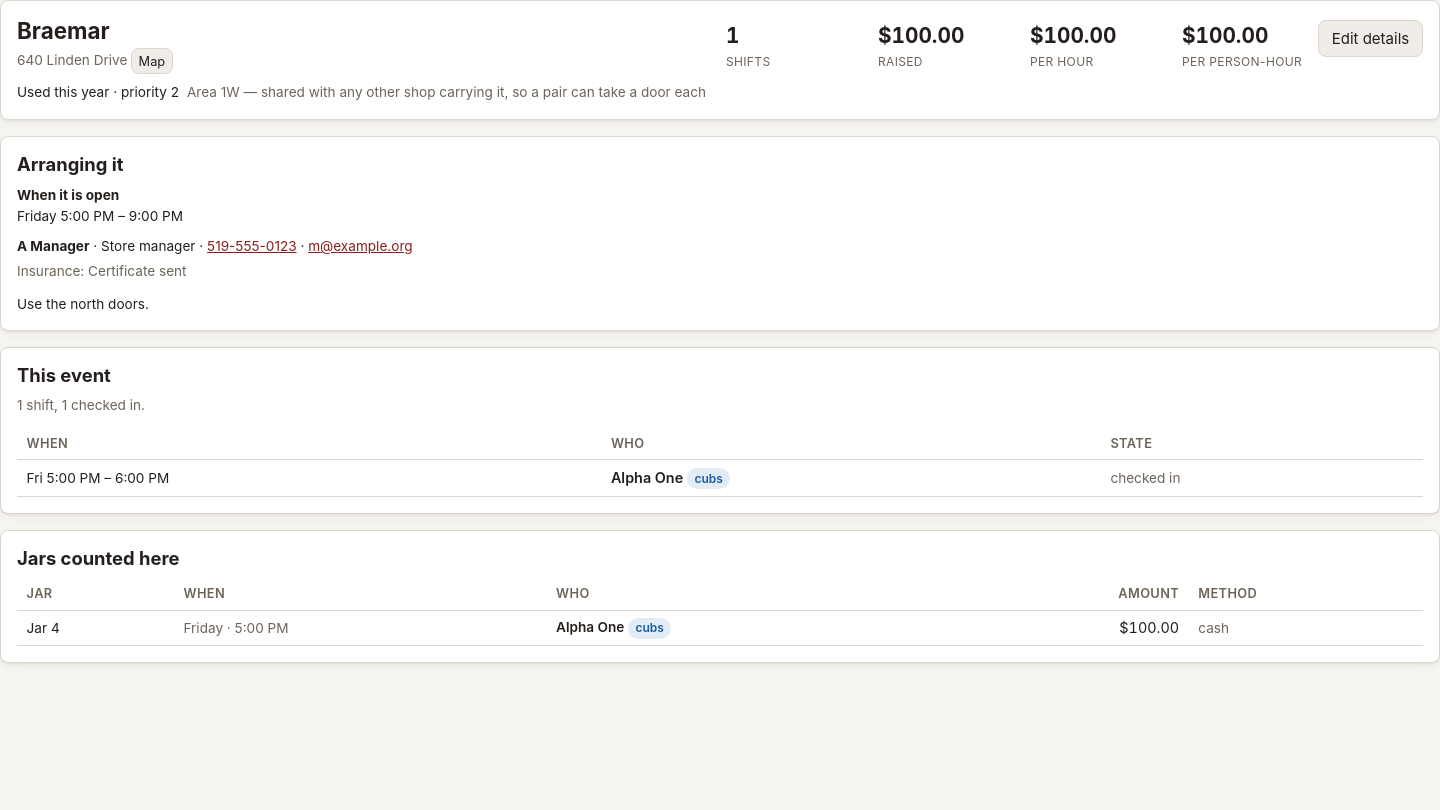
correcting a location from its own page › will not save a location with no name
Click the button "Edit details" at (1370, 39), box [1318,20,1423,58]
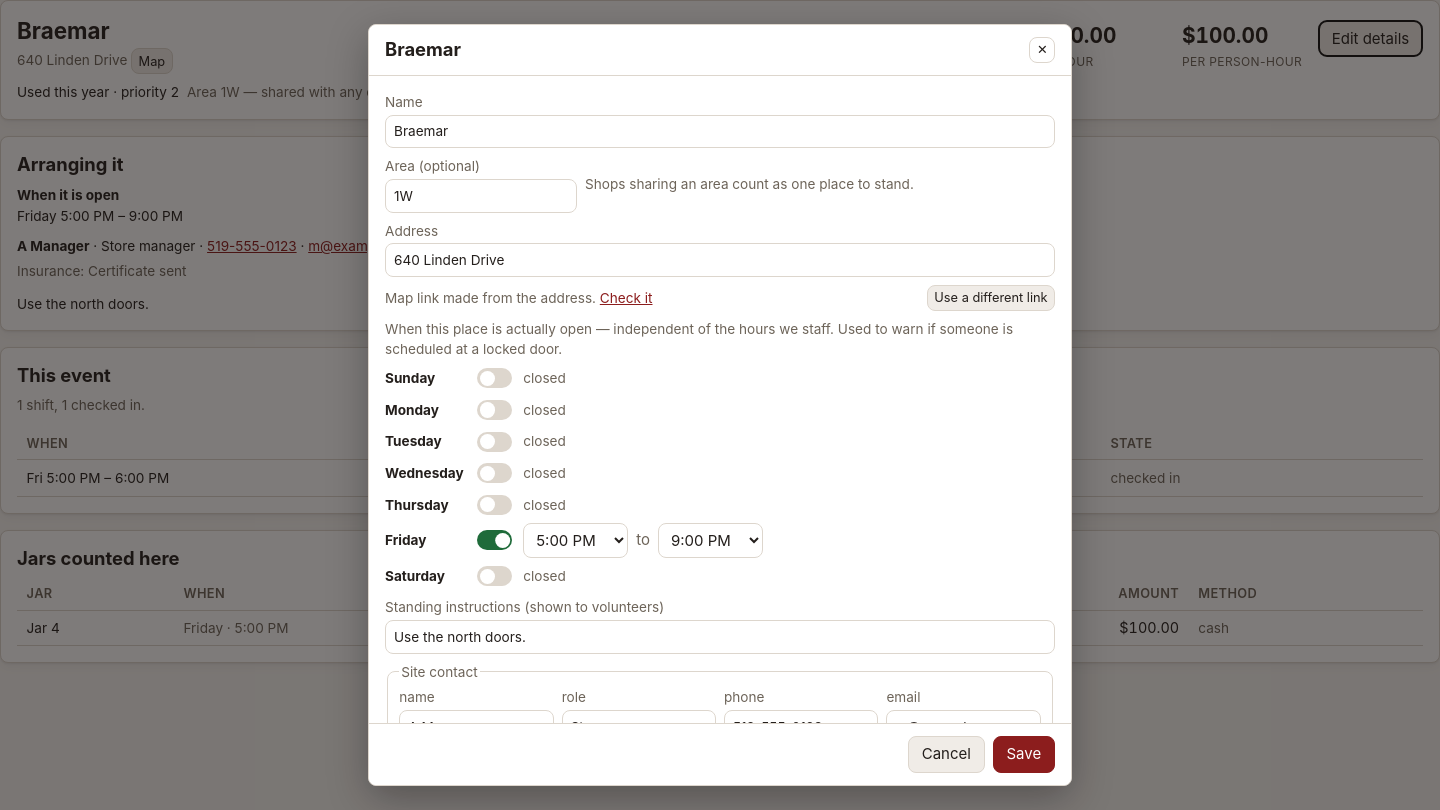
Clear the field labelled "Name" at (720, 132), box [385,115,1055,148]
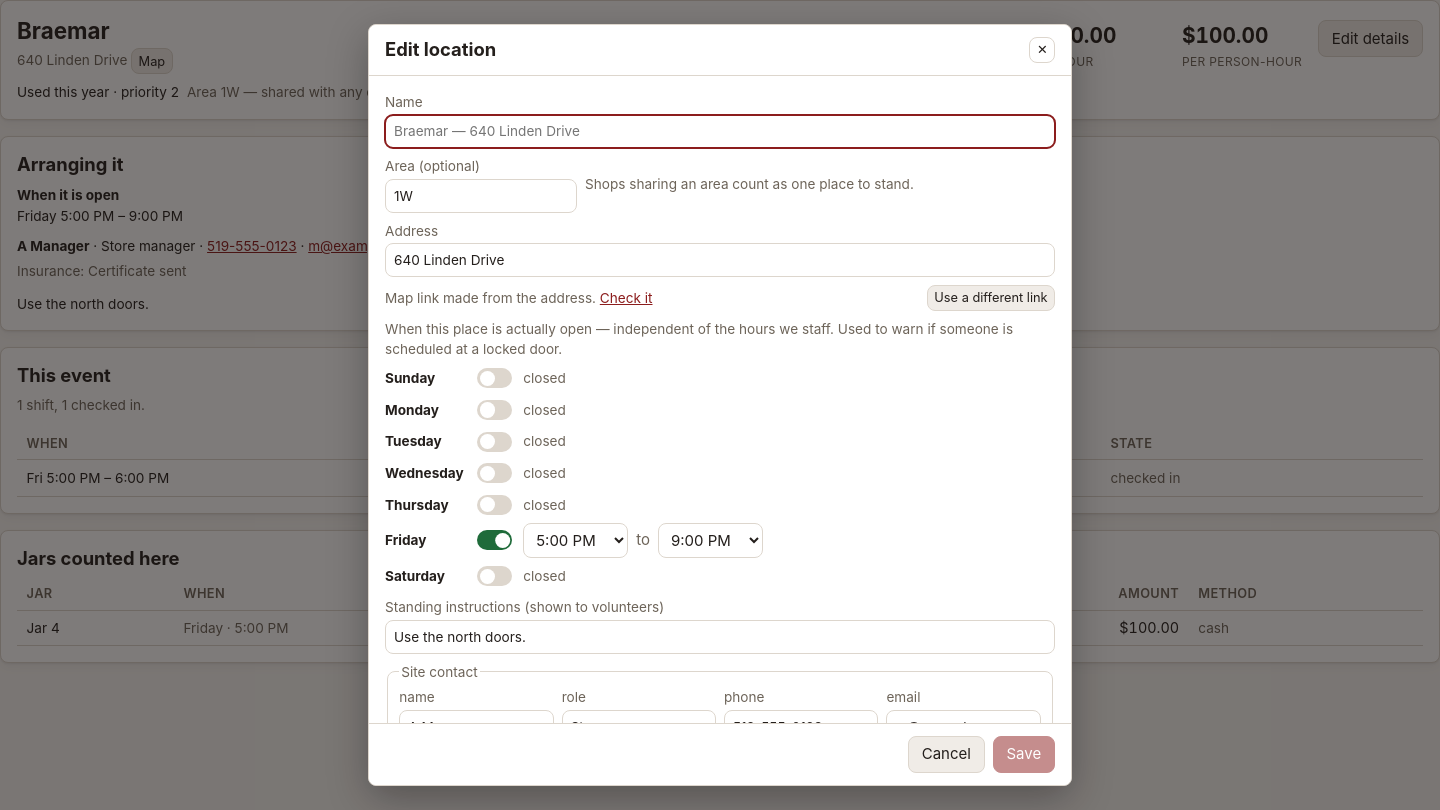
Expected: the button "Save" is disabled, [993,736,1055,773]
